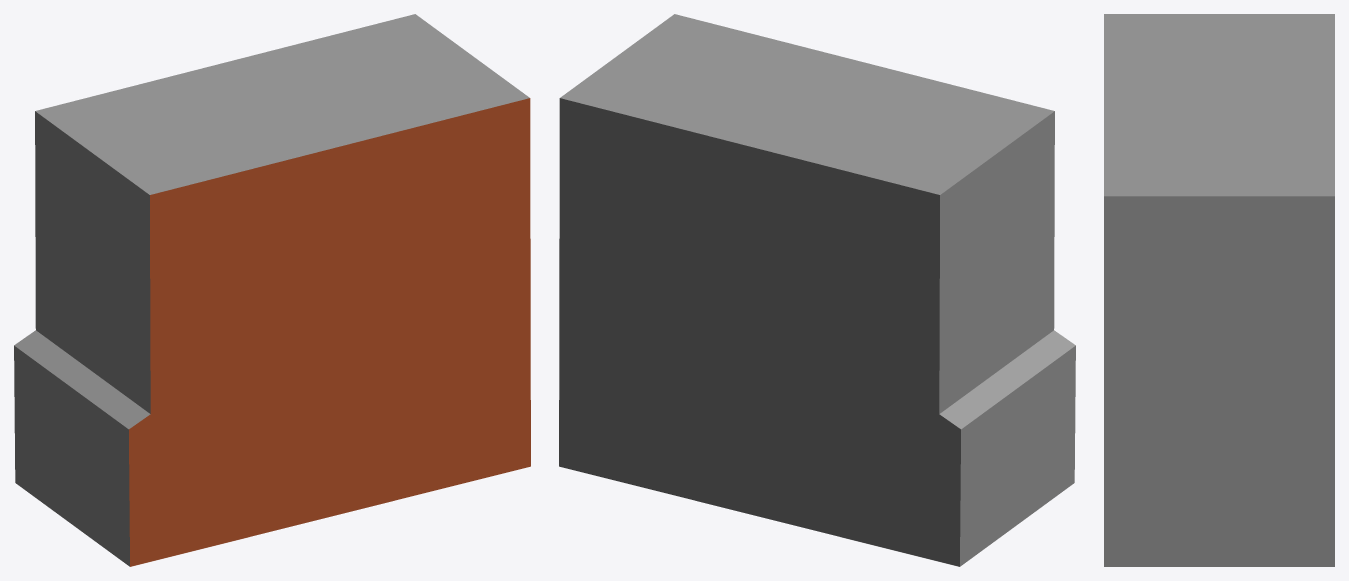
File: construction_4215_assumed_A_Casa_h6m.obj
3 renders of one model, left to right at view 1: azimuth 30°, elevation 25°; view 2: azimuth 150°, elevation 25°; view 3: azimuth 270°, elevation 25°, orthographic.
Parts seen in each view (by area): view 1: construction_4215_assumed_A_Casa; view 2: construction_4215_assumed_A_Casa; view 3: construction_4215_assumed_A_Casa.
Part boxes in pixels (x1,y1,x2,y2): construction_4215_assumed_A_Casa: [14, 14, 530, 566]; construction_4215_assumed_A_Casa: [559, 14, 1075, 566]; construction_4215_assumed_A_Casa: [1104, 14, 1334, 566].
Bounding box in the file's own units: 12.13 × 10.7 × 6.
